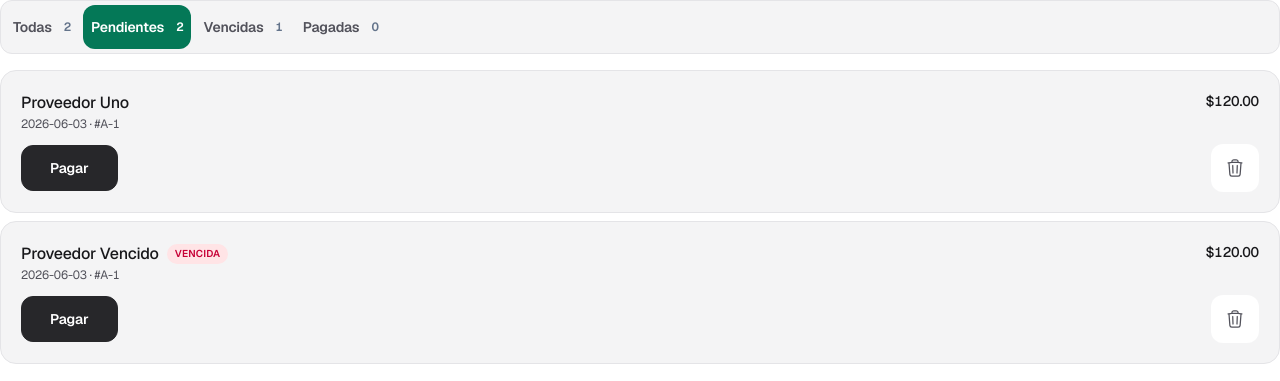
Test case: InvoiceList › filters to overdue bills
Click the button "Vencidas 1" at (243, 27), box [195,5,291,49]
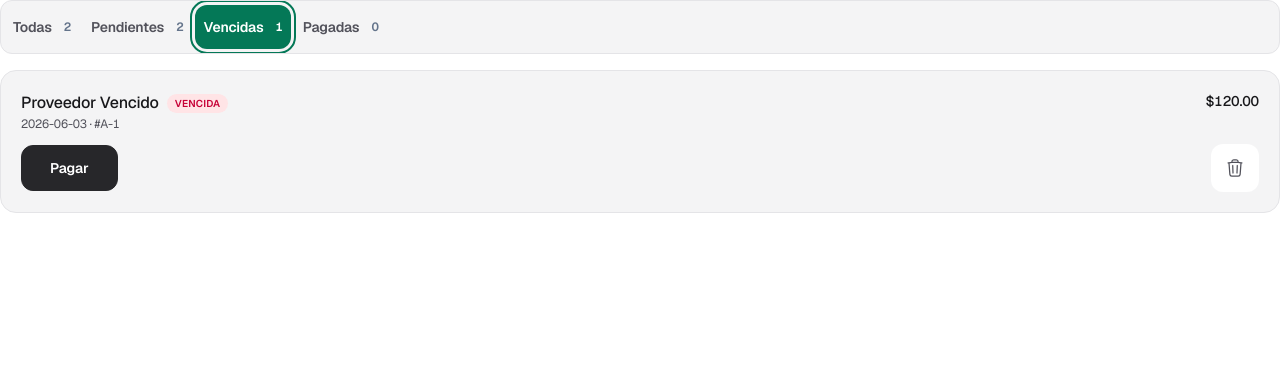
Expected: the text "Proveedor Vencido" is shown, [21,91,159,116]
Expected: the text "Proveedor Uno" is gone
